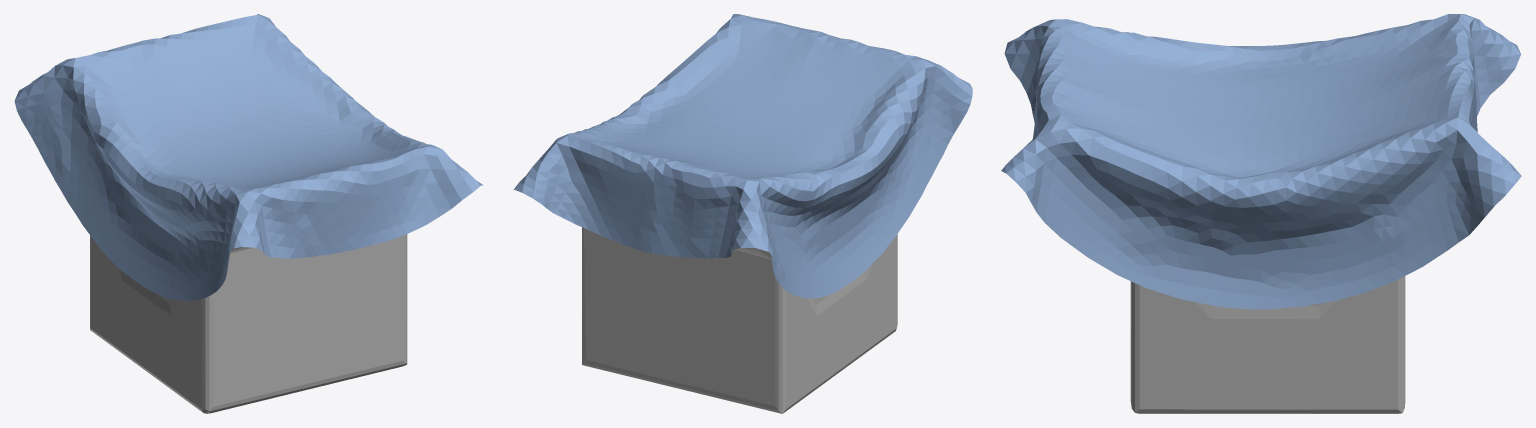
File: level_1.glb
3 renders of one model, left to right at view 1: azimuth 30°, elevation 25°; view 2: azimuth 150°, elevation 25°; view 3: azimuth 270°, elevation 25°, orthographic. The views are drawn at different scales.
Visible parts, largest first — view 1: world, object.obj; view 2: world, object.obj; view 3: world, object.obj.
Part boxes in pixels (<box>): world: <box>14,14,482,300</box>; object.obj: <box>90,234,407,413</box>; world: <box>513,14,972,298</box>; object.obj: <box>582,227,897,413</box>; world: <box>1001,14,1521,309</box>; object.obj: <box>1130,276,1405,413</box>.
Bounding box in the file's own units: 0.3209 × 0.2987 × 0.48.
